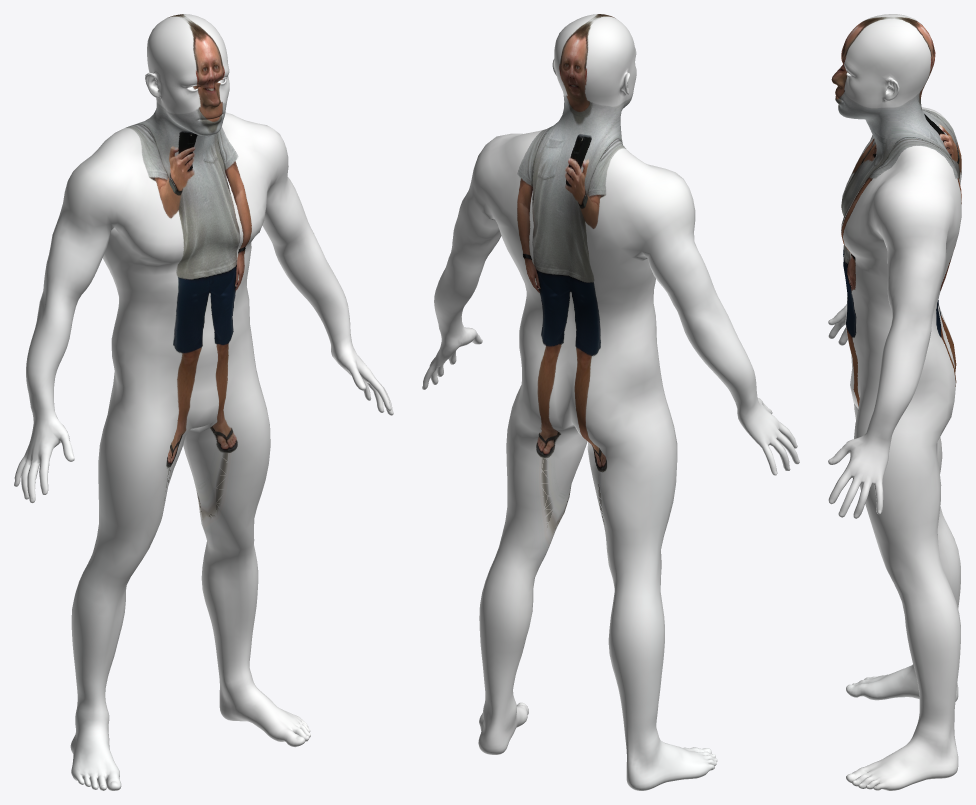
The model's file is body_face.glb.
3 renders of one model, left to right at view 1: azimuth 30°, elevation 25°; view 2: azimuth 150°, elevation 25°; view 3: azimuth 270°, elevation 25°, orthographic.
Visible parts, largest first — view 1: Body; view 2: Body; view 3: Body.
Part boxes in pixels (bbox=[...]): Body: bbox=[14, 14, 393, 790]; Body: bbox=[422, 14, 799, 790]; Body: bbox=[828, 14, 961, 790].
Bounding box in the file's own units: 0.9286 × 1.8 × 0.3019.
1 material, 1 textured.
